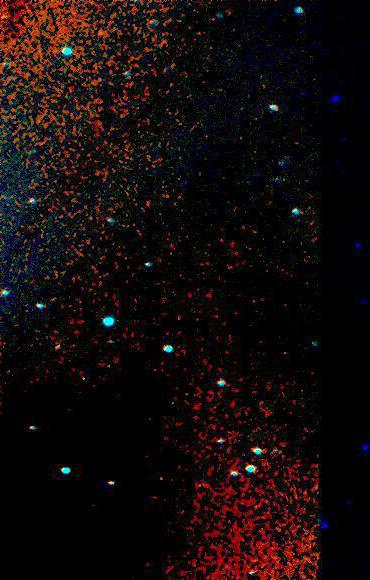star: (0, 2, 20, 32)
